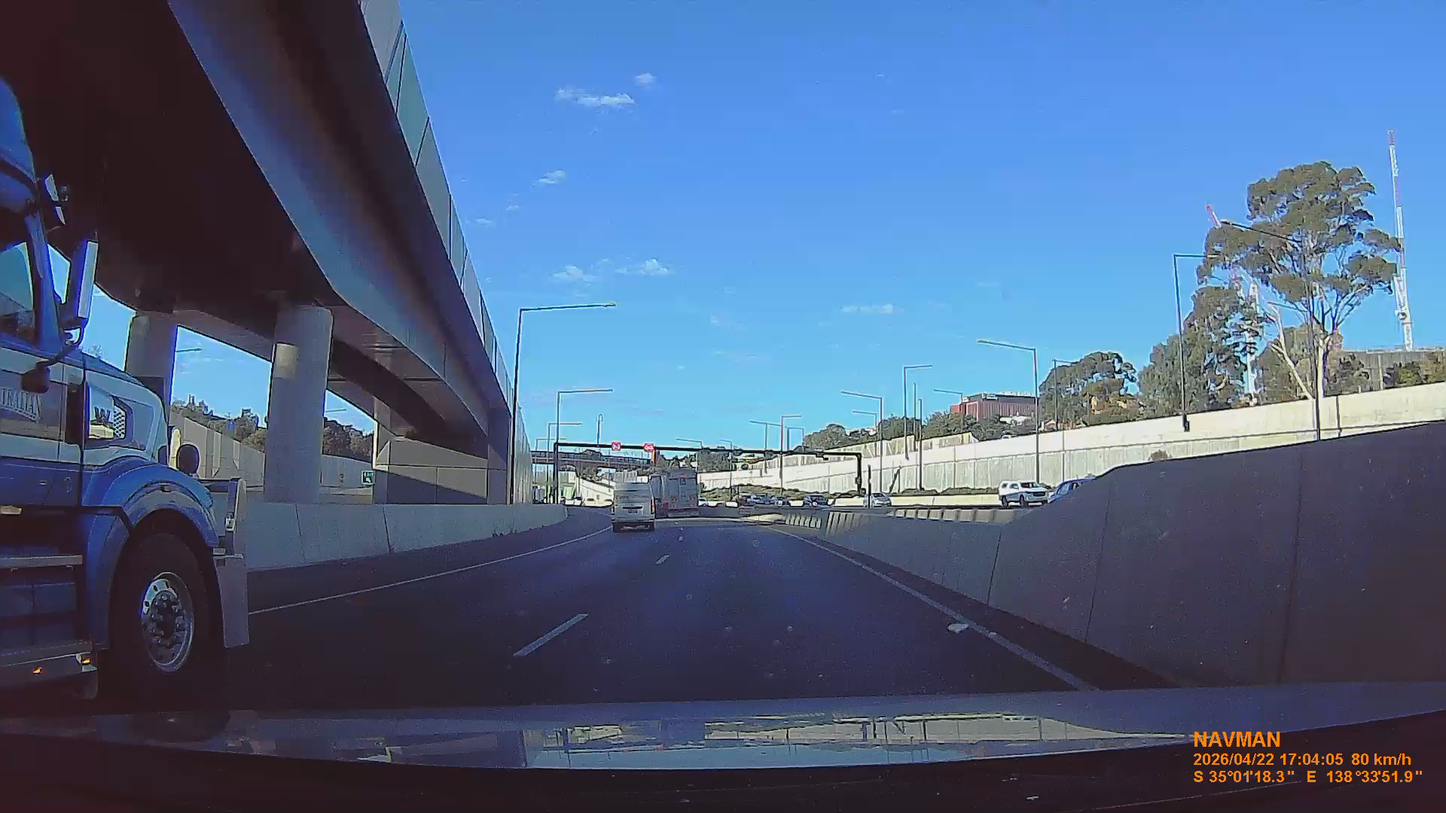road barriers: (784, 423, 1445, 685), (239, 502, 566, 571)
